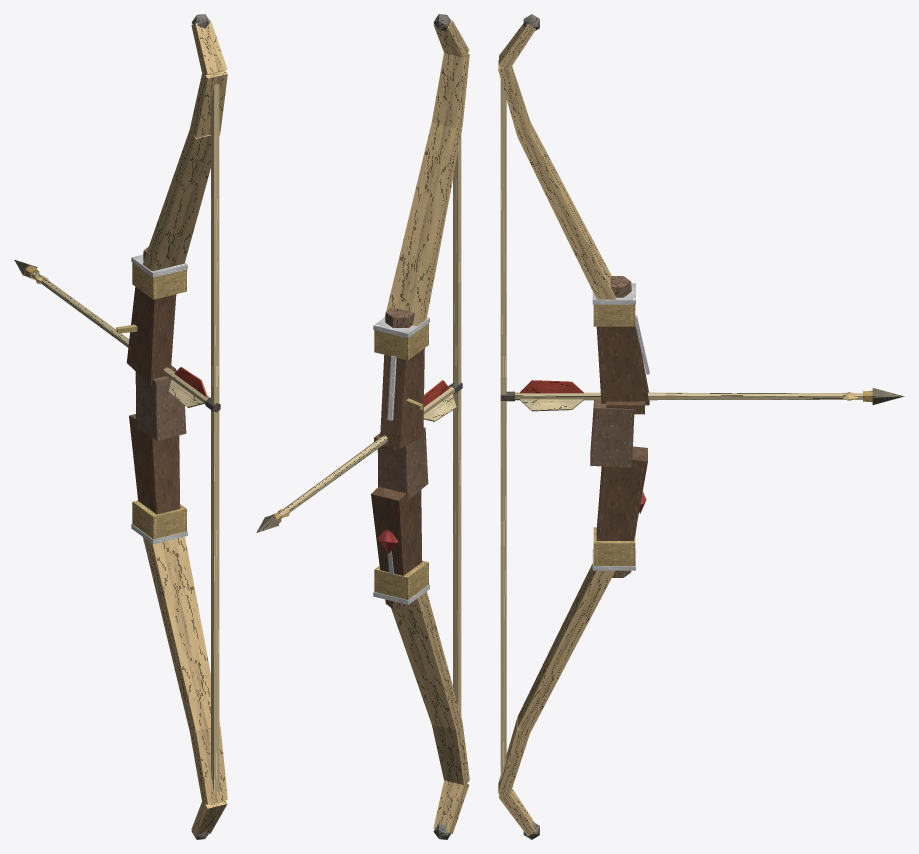
The model's file is weapon_longwick.gltf.
3 views of the same model, side by side, from view 1: azimuth 30°, elevation 25°; view 2: azimuth 150°, elevation 25°; view 3: azimuth 270°, elevation 25° (orthographic).
Parts seen in each view (by area): view 1: riser, limb_lower, limb_upper, string_lower, string_upper, arrow, glow; view 2: riser, limb_upper, limb_lower, string_lower, arrow, string_upper, glow; view 3: riser, limb_upper, limb_lower, arrow, string_lower, string_upper, glow.
Boxes of the visible parts, bbox=[...] form: riser: bbox=[116, 263, 186, 539]; limb_lower: bbox=[143, 536, 227, 839]; limb_upper: bbox=[142, 14, 227, 271]; string_lower: bbox=[211, 410, 219, 802]; string_upper: bbox=[211, 72, 219, 404]; arrow: bbox=[14, 259, 220, 412]; glow: bbox=[131, 254, 187, 544]; riser: bbox=[371, 323, 428, 599]; limb_upper: bbox=[384, 14, 469, 327]; limb_lower: bbox=[385, 591, 469, 839]; string_lower: bbox=[453, 389, 461, 715]; arrow: bbox=[256, 380, 462, 532]; string_upper: bbox=[453, 135, 461, 384]; glow: bbox=[373, 317, 429, 604]; riser: bbox=[590, 304, 649, 565]; limb_upper: bbox=[498, 14, 631, 299]; limb_lower: bbox=[498, 563, 631, 839]; arrow: bbox=[500, 380, 904, 411]; string_lower: bbox=[500, 401, 506, 780]; string_upper: bbox=[500, 79, 506, 394]; glow: bbox=[592, 283, 649, 570].
Size of the model in its own units: 0.0707 by 1.13 by 0.507.
8 materials, 8 textured.
